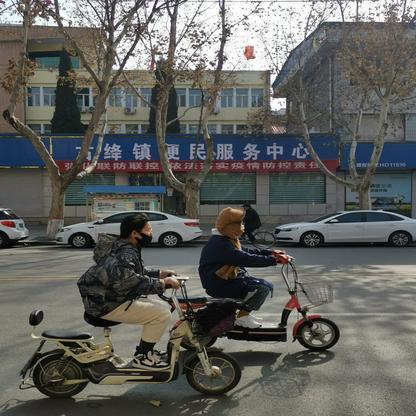target: (22, 214, 242, 397), (177, 207, 343, 353)
